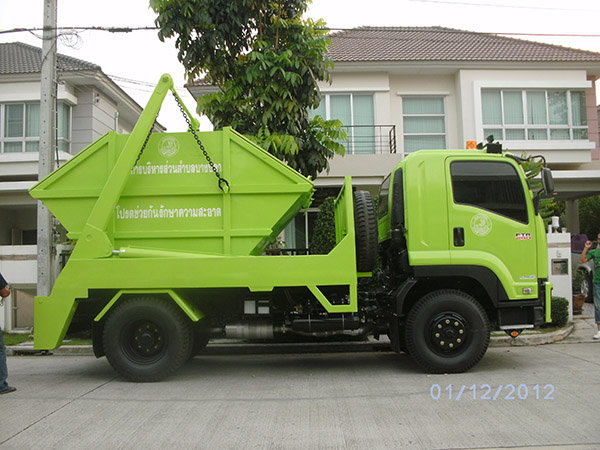truck: (29, 72, 552, 374)
